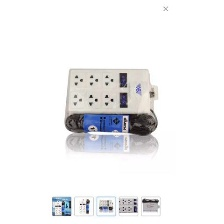three_eye_plug: (58, 64, 162, 125)
